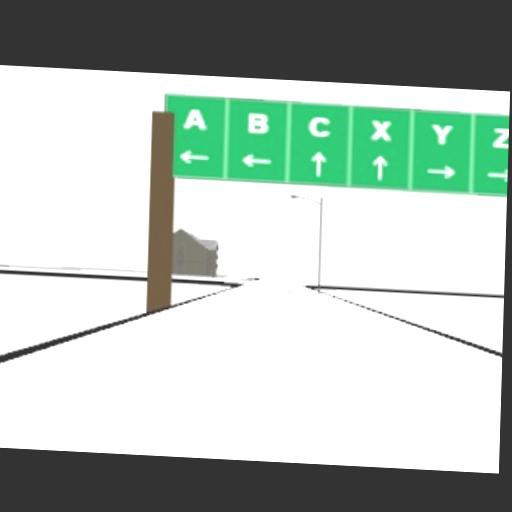A: (182, 108, 207, 131)
B: (245, 112, 268, 133)
C: (307, 115, 330, 136)
Left: (178, 149, 209, 165), (239, 153, 272, 168)
Right: (427, 164, 454, 180), (485, 167, 508, 183)
Straight: (310, 151, 326, 176), (371, 154, 386, 179)
X: (370, 118, 391, 139)
Y: (430, 124, 453, 145)
Z: (491, 127, 509, 148)
